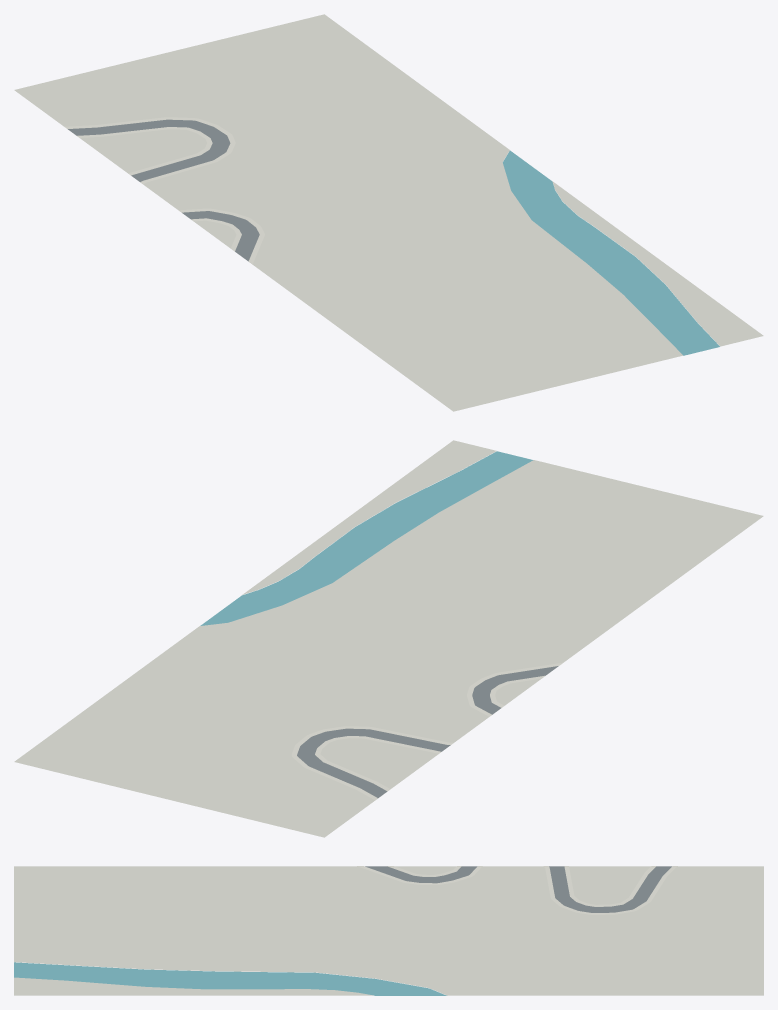
3 views of the same model, one above another, from view 1: azimuth 30°, elevation 25°; view 2: azimuth 150°, elevation 25°; view 3: azimuth 270°, elevation 25° (orthographic). The views are drawn at different scales.
Parts seen in each view (by area): view 1: city; view 2: city; view 3: city.
Part boxes in pixels (x1,y1,x2,y2): city: [14, 14, 763, 411]; city: [14, 440, 763, 837]; city: [14, 866, 763, 995].
Bounding box in the file's own units: 204 × 0.4 × 500.
